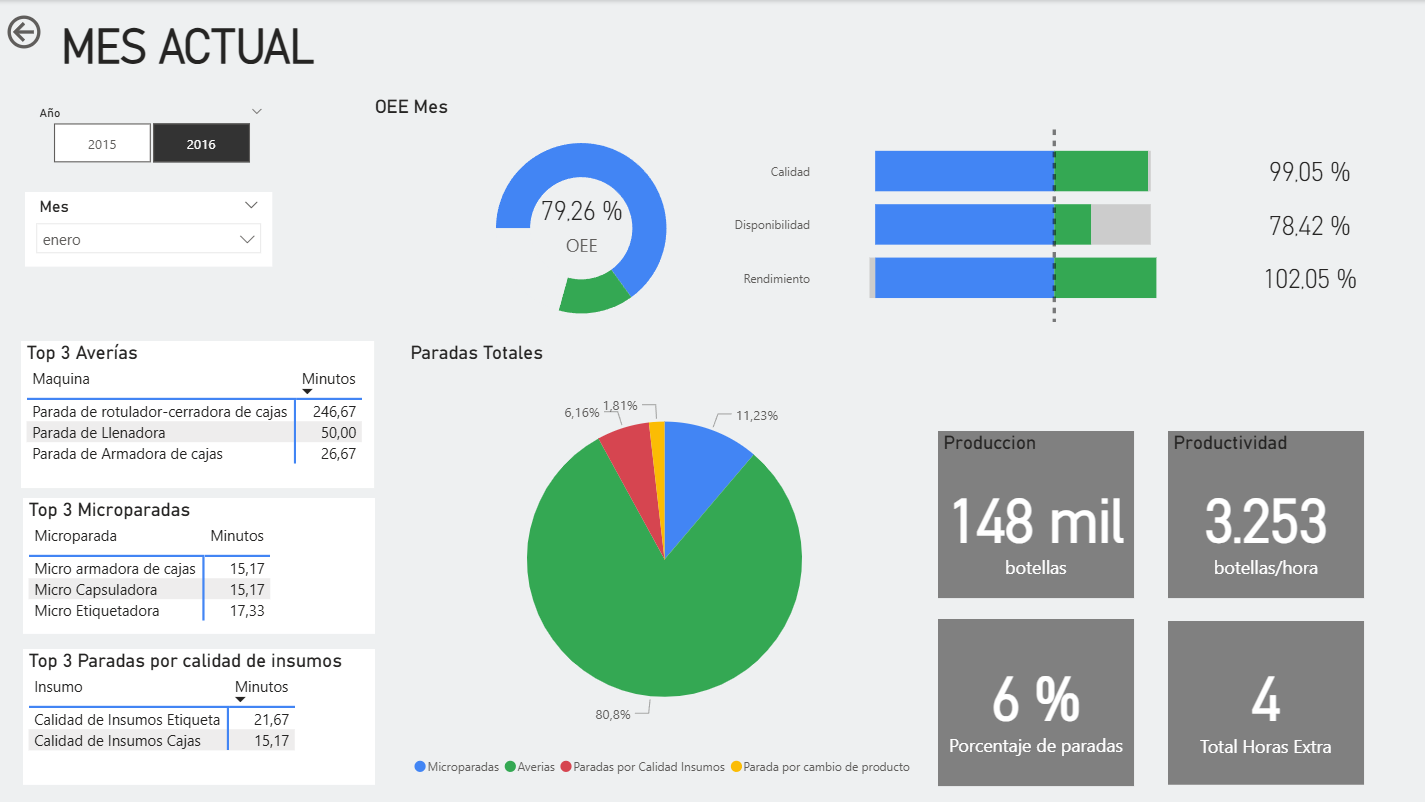

This screenshot's page, from the dashboard's own definition file:
{"tool":"powerbi","page":{"name":"MES","canvas":[1280,720],"ordinal":2},"visuals":[{"type":"card","title":"RENDIMIENTO","fields":{"Values":["DAX.RENDIMIENTO"]},"box":[1087.6,230.5,177.1,37.1],"z":0,"group":"g1"},{"type":"slicer","fields":{"Values":["Tabla_Calendario_d.Fecha.Variación.Jerarquía de fechas.Mes"]},"box":[22.7,172.3,222.2,66.9],"z":0},{"type":"slicer","fields":{"Values":["Tabla_Calendario_d.Año"]},"box":[22.7,89.6,225.6,63.5],"z":1000},{"type":"card","title":"DISPONIBILIDAD","fields":{"Values":["DAX.DISPONIBILIDAD"]},"box":[1087.6,182.9,177.1,36.2],"z":1000,"group":"g1"},{"type":"card","title":"CALIDAD","fields":{"Values":["DAX.CALIDAD"]},"box":[1087.6,133.3,177.1,39.1],"z":2000,"group":"g1"},{"type":"card","title":"Produccion","fields":{"Values":["DAX.Produccion Real"]},"box":[842.4,386.6,175.7,149.7],"z":2000},{"type":"donutChart","title":"OEE Mes","fields":{"Category":["Anillo OEE.Sección"],"Y":["DAX.Valor Anillo"]},"box":[336.7,85,370.3,215.3],"z":3000,"group":"g1"},{"type":"card","fields":{"Values":["DAX.Porcentaje de paradas"]},"box":[842.4,555.5,175.7,149.7],"z":3000},{"type":"card","title":"OEE","fields":{"Values":["DAX.OEE"]},"box":[453.7,165.5,137.6,65],"z":4000,"group":"g1"},{"type":"group","id":"g1","title":"Grupo 1","box":[336.7,85,927.4,215.4],"z":4000},{"type":"barChart","fields":{"Y":["DAX.Valor Verde","DAX.Valor Rojo","DAX.Indicador Superado","DAX.Indicador vacio"],"Category":["Indicadores.Nombre"]},"box":[648.2,102.9,439.4,190.5],"z":5000,"group":"g1"},{"type":"card","title":"Productividad","fields":{"Values":["DAX.Productividad"]},"box":[1048.7,386.6,175.7,149.7],"z":5000},{"type":"card","fields":{"Values":["DAX.Total Horas Extra"]},"box":[1048.7,557.8,175.7,147.4],"z":6000},{"type":"pieChart","title":"Paradas Totales","fields":{"Y":["DAX.Total microparadas","DAX.Total Paradas Maquina","DAX.Total Paradas por Calidad Insumos","DAX.Total parada por cambio de producto"]},"box":[363.6,306.1,465.9,399.5],"z":7000},{"type":"actionButton","box":[1.8,9,41.3,39.5],"z":8000},{"type":"pivotTable","title":"Top 3 Averías","fields":{"Rows":["Paradas_d.Maquina"],"Values":["Sum(Paradas_d.Tiempo de averia)"]},"box":[19.3,306.1,317.4,131.5],"z":9000},{"type":"pivotTable","title":"Top 3 Microparadas","fields":{"Rows":["Paradas_d.Microparada"],"Values":["Sum(Paradas_d.Tiempo por microparada)"]},"box":[20.4,446.7,316.3,122.4],"z":10000},{"type":"pivotTable","title":"Top 3 Paradas por calidad de insumos","fields":{"Rows":["Paradas_d.Insumo"],"Values":["Sum(Paradas_d.Tiempo de parada por calidad de insumos)"]},"box":[20.4,582.7,316.3,122.4],"z":11000},{"type":"textbox","box":[49.9,11.3,275.5,73.7],"z":12000}]}

Visuals, with their boxes in screenshot pixels (x1, y1, x2, y2), scaled from the page's 1280x720 canvas onto the 1425x802 screenshot:
"RENDIMIENTO" card: l=1211, t=257, r=1408, b=298
slicer - Tabla_Calendario_d.Fecha.Variación.Jerarquía de fechas.Mes: l=25, t=192, r=273, b=266
slicer - Tabla_Calendario_d.Año: l=25, t=100, r=276, b=171
"DISPONIBILIDAD" card: l=1211, t=204, r=1408, b=244
"CALIDAD" card: l=1211, t=148, r=1408, b=192
"Produccion" card: l=938, t=431, r=1133, b=597
"OEE Mes" donutChart: l=375, t=95, r=787, b=335
card - DAX.Porcentaje de paradas: l=938, t=619, r=1133, b=786
"OEE" card: l=505, t=184, r=658, b=257
"Grupo 1" group: l=375, t=95, r=1407, b=335
barChart - DAX.Valor Verde x DAX.Valor Rojo: l=722, t=115, r=1211, b=327
"Productividad" card: l=1167, t=431, r=1363, b=597
card - DAX.Total Horas Extra: l=1167, t=621, r=1363, b=786
"Paradas Totales" pieChart: l=405, t=341, r=923, b=786
actionButton: l=2, t=10, r=48, b=54
"Top 3 Averías" pivotTable: l=21, t=341, r=375, b=487
"Top 3 Microparadas" pivotTable: l=23, t=498, r=375, b=634
"Top 3 Paradas por calidad de insumos" pivotTable: l=23, t=649, r=375, b=785
textbox: l=56, t=13, r=362, b=95
